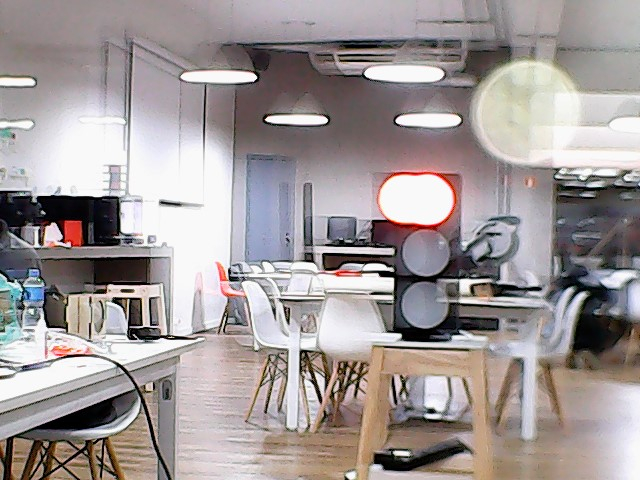vermelho: (393, 171, 463, 340)
